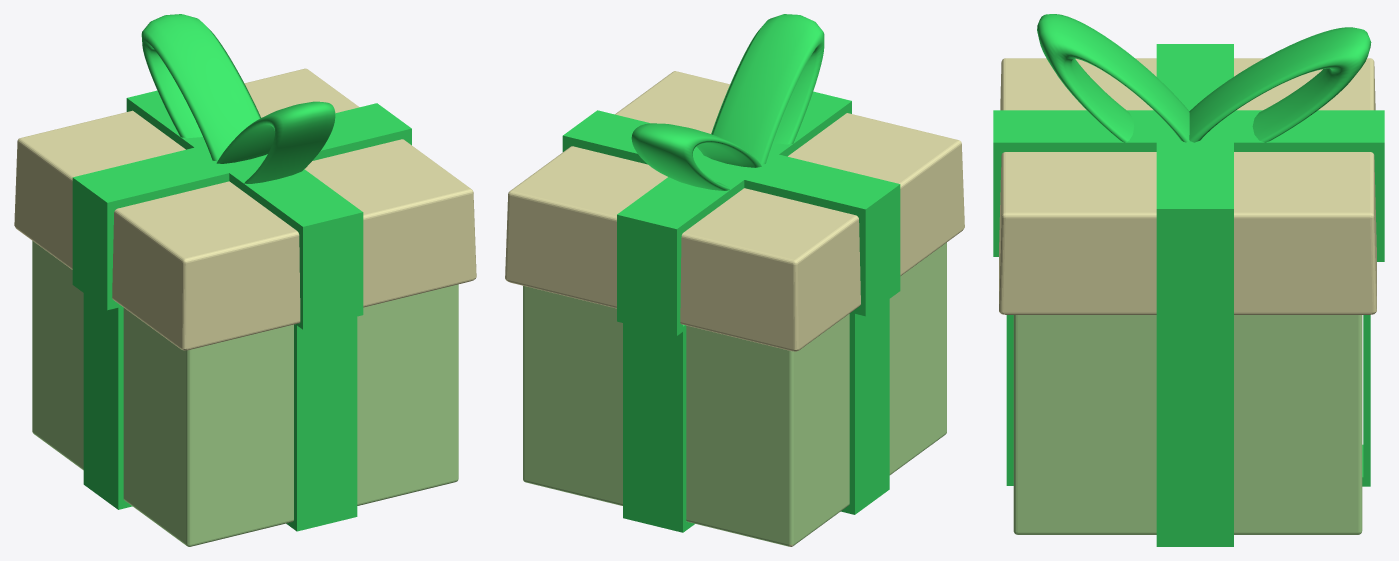
File: 礼物盒4.fbx
The picture shows the model from 3 angles, left to right: view 1: azimuth 30°, elevation 25°; view 2: azimuth 150°, elevation 25°; view 3: azimuth 270°, elevation 25°; orthographic projection. The views are drawn at different scales.
Parts seen in each view (by area): view 1: 立方体.083, 立方体.081, 立方体.080, 立方体.079, 环体.009, 环体.010; view 2: 立方体.083, 立方体.079, 立方体.081, 环体.010, 环体.009; view 3: 立方体.083, 立方体.082, 立方体.079, 环体.009, 立方体.081, 环体.010, 立方体.080.
Boxes of the visible parts, x1,y1,x2,y2 form: 立方体.083: (14,68,476,546); 立方体.081: (72,105,402,509); 立方体.080: (286,316,357,531); 立方体.079: (126,90,363,329); 环体.009: (141,14,260,161); 环体.010: (216,101,335,183); 立方体.083: (505,71,964,546); 立方体.079: (617,91,851,532); 立方体.081: (571,112,900,514); 环体.010: (711,14,824,164); 环体.009: (631,123,761,190); 立方体.083: (999,58,1376,534); 立方体.082: (1156,204,1233,546); 立方体.079: (993,110,1384,486); 环体.009: (1189,27,1371,142); 立方体.081: (1156,44,1233,204); 环体.010: (1037,14,1189,142); 立方体.080: (1006,315,1013,485).
Size of the model in its own units: 85.68 by 109 by 85.88.
